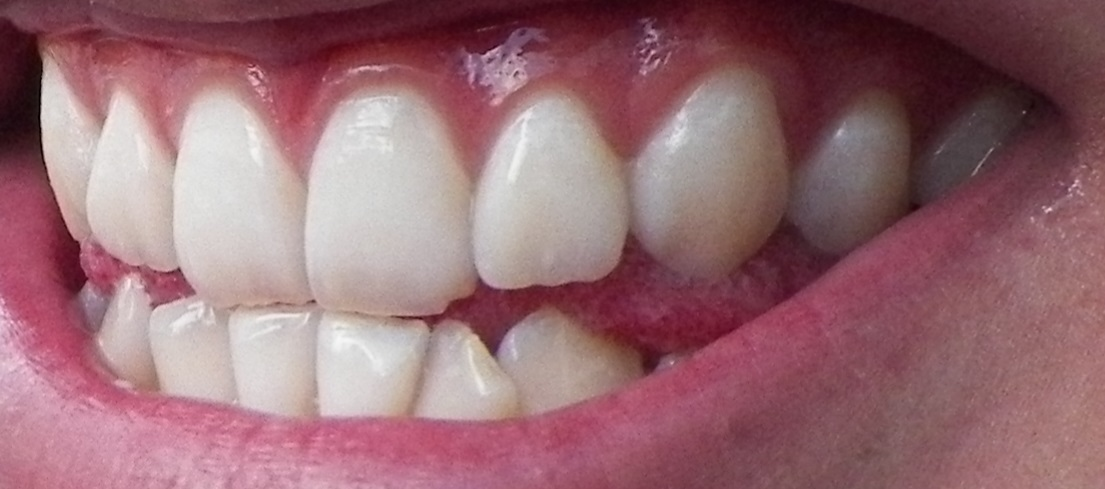boca: (37, 62, 1023, 422)
